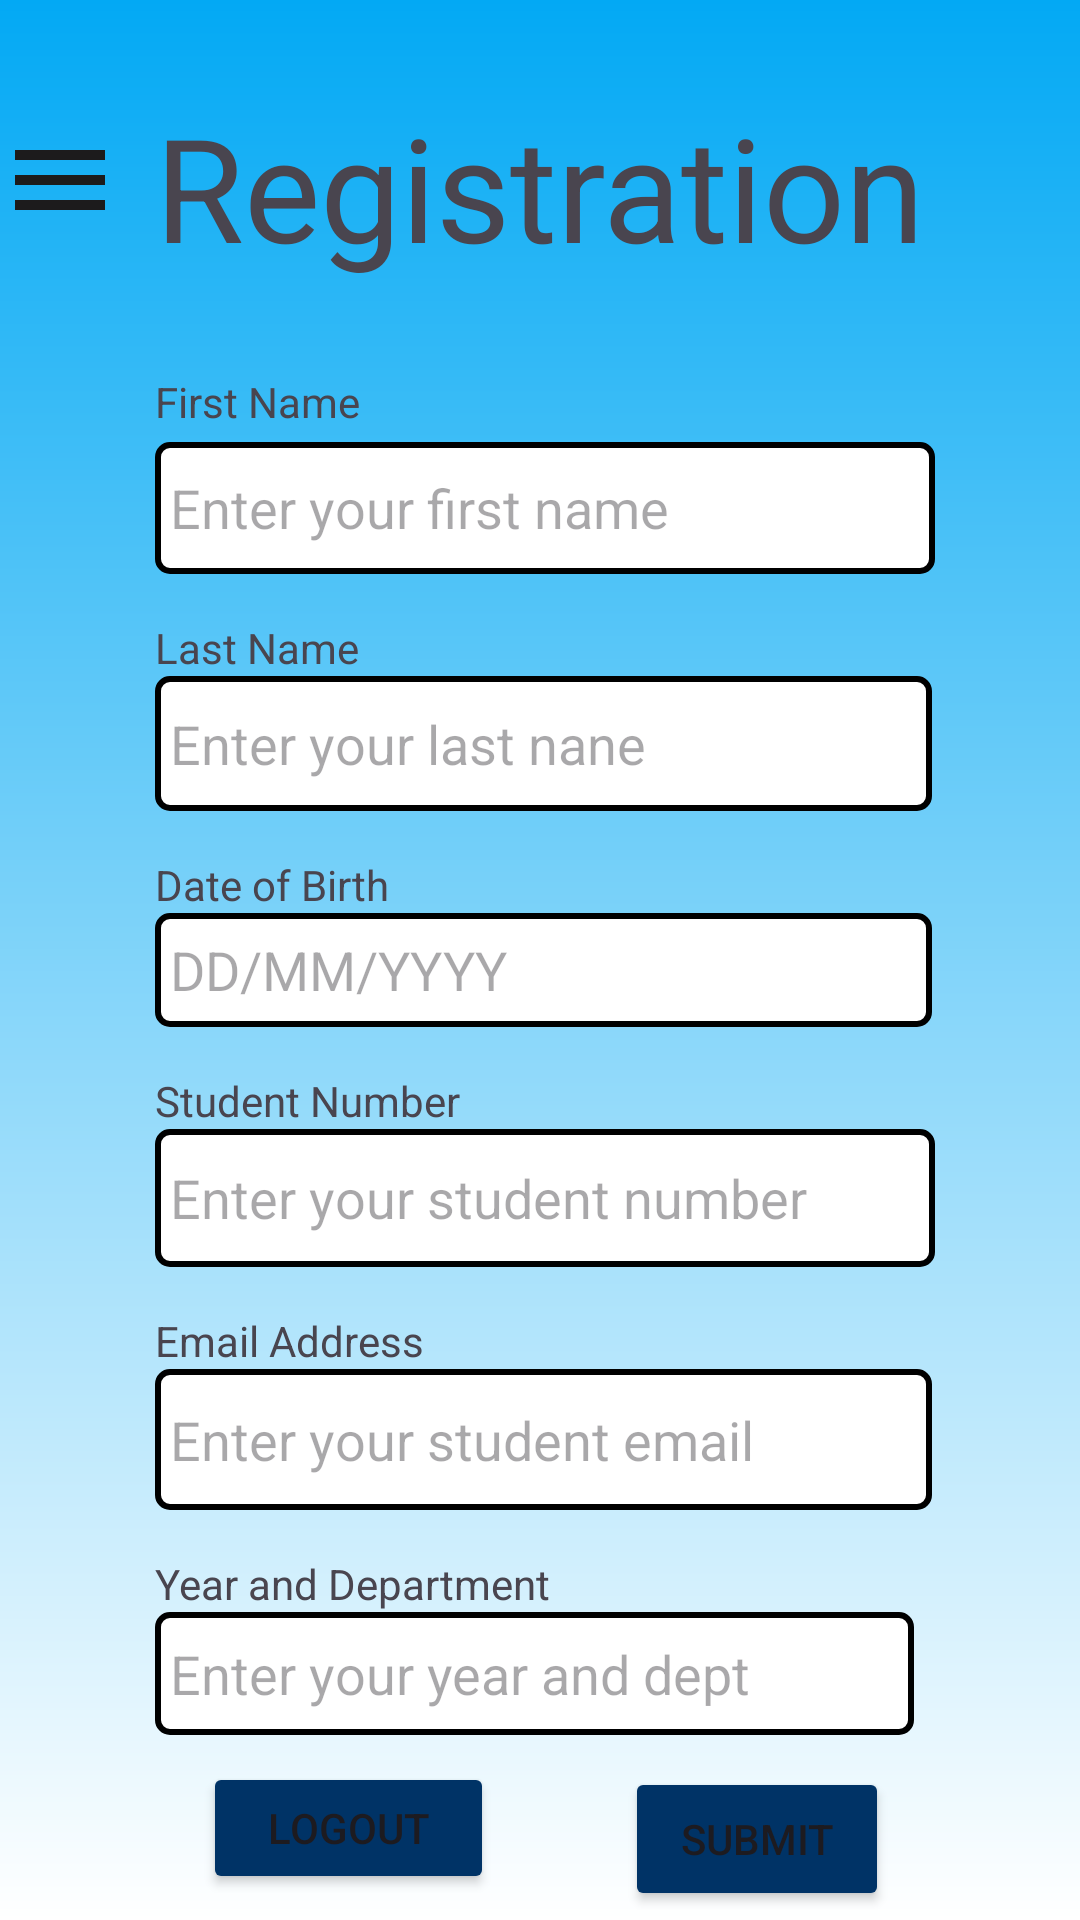

Icon bounding boxes for this 1080×1920 phone screenshot, format box=[x1, y1, x2, y2]:
Menu Icon: box=[15, 150, 105, 210]
